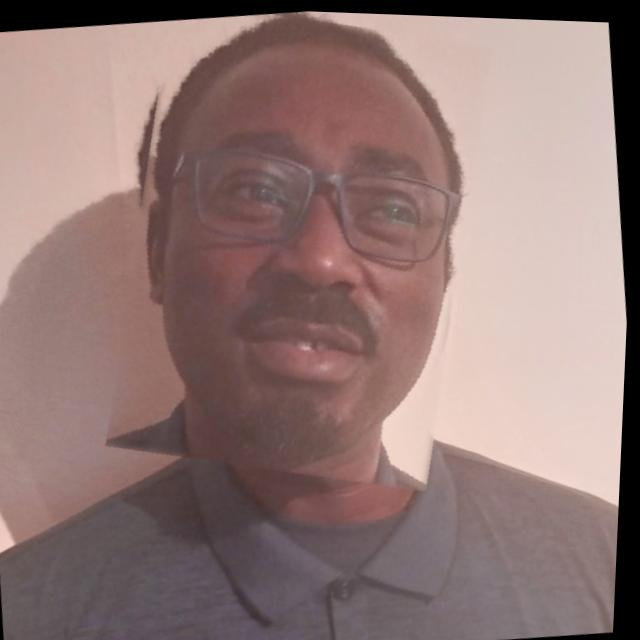happy: (85, 3, 516, 505)
